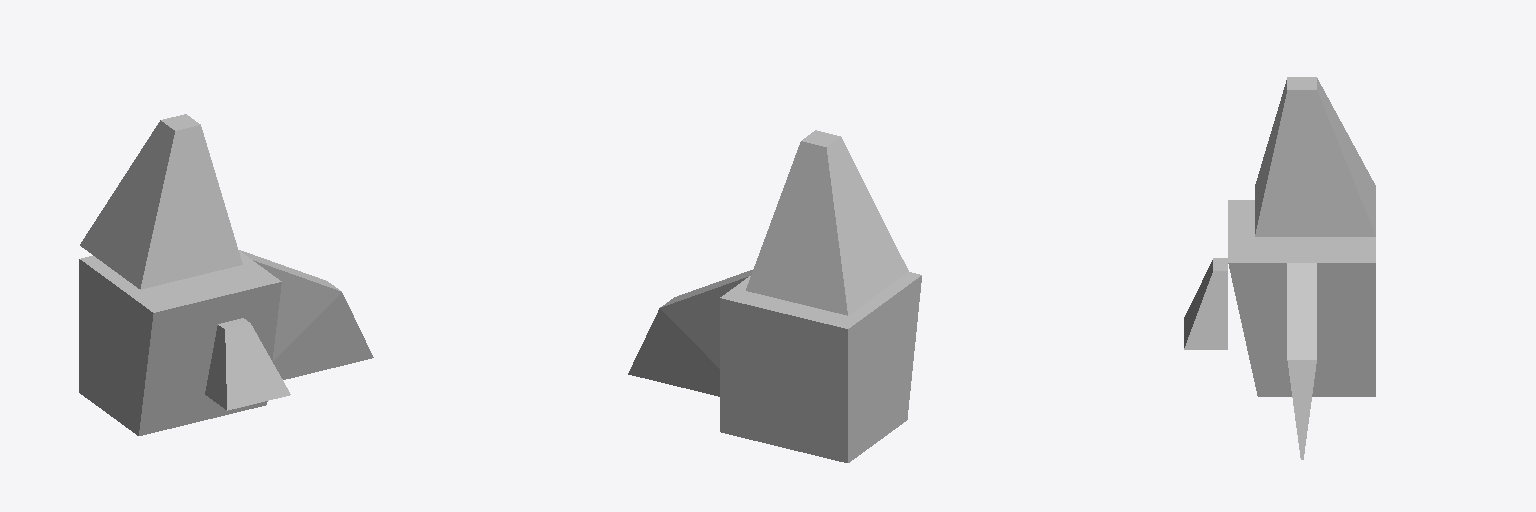
Rendered from thing1+y+z.obj.
The picture shows the model from 3 angles: view 1: azimuth 30°, elevation 25°; view 2: azimuth 150°, elevation 25°; view 3: azimuth 270°, elevation 25°; orthographic projection.
Visible parts, largest first — view 1: Cube; view 2: Cube; view 3: Cube.
Part boxes in pixels (x1,y1,x2,y2): Cube: (79, 114, 373, 435); Cube: (628, 130, 921, 462); Cube: (1184, 77, 1375, 459).
Size of the model in its own units: 1 by 1.05 by 0.65.